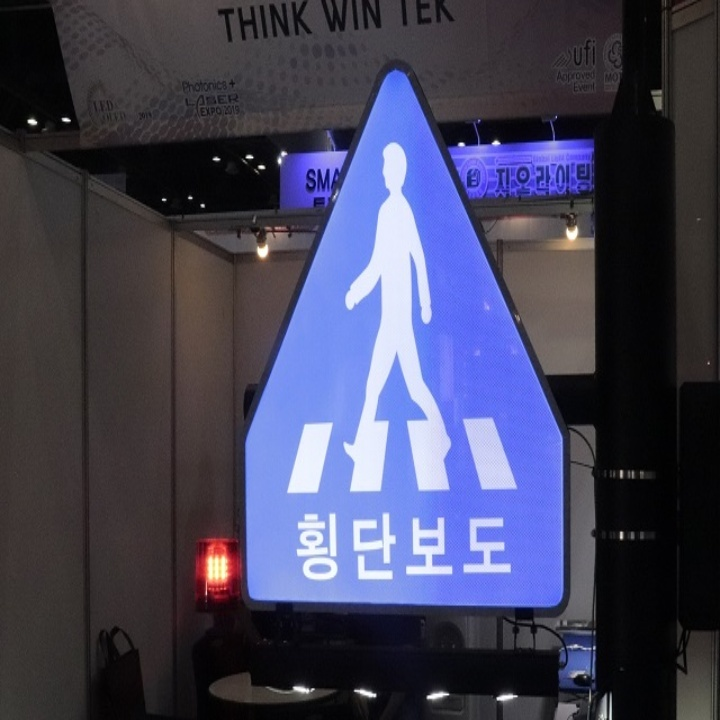cross: (221, 140, 568, 509)
